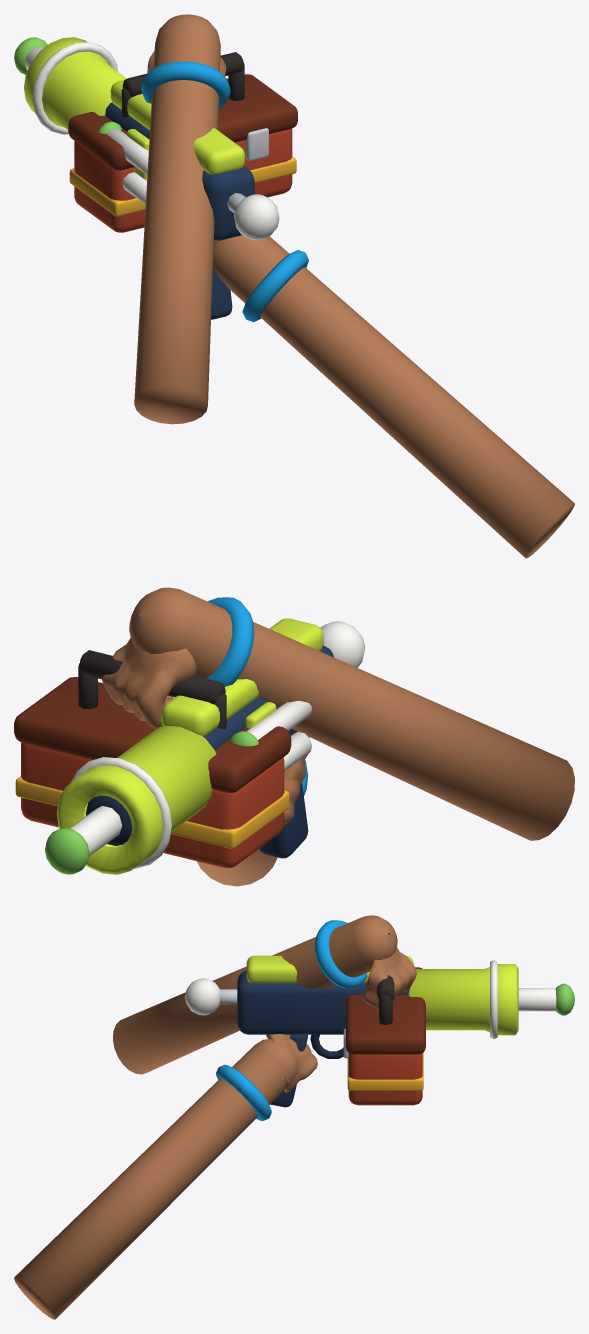
The model's file is engineer.glb.
3 renders of one model, top to bottom at view 1: azimuth 30°, elevation 25°; view 2: azimuth 150°, elevation 25°; view 3: azimuth 270°, elevation 25°, orthographic. The views are drawn at different scales.
Parts seen in each view (by area): view 1: R, L, A; view 2: L, R, A; view 3: R, L, A.
Boxes of the visible parts, x1=… form: R: x1=24, y1=37, x2=574, y2=558; L: x1=68, y1=14, x2=297, y2=424; A: x1=14, y1=37, x2=47, y2=74; L: x1=14, y1=587, x2=574, y2=867; R: x1=56, y1=618, x2=365, y2=886; A: x1=45, y1=806, x2=122, y2=874; R: x1=14, y1=955, x2=518, y2=1319; L: x1=113, y1=915, x2=425, y2=1105; A: x1=518, y1=983, x2=574, y2=1015.
Bounding box in the file's own units: 0.5626 × 0.6118 × 0.9077.
